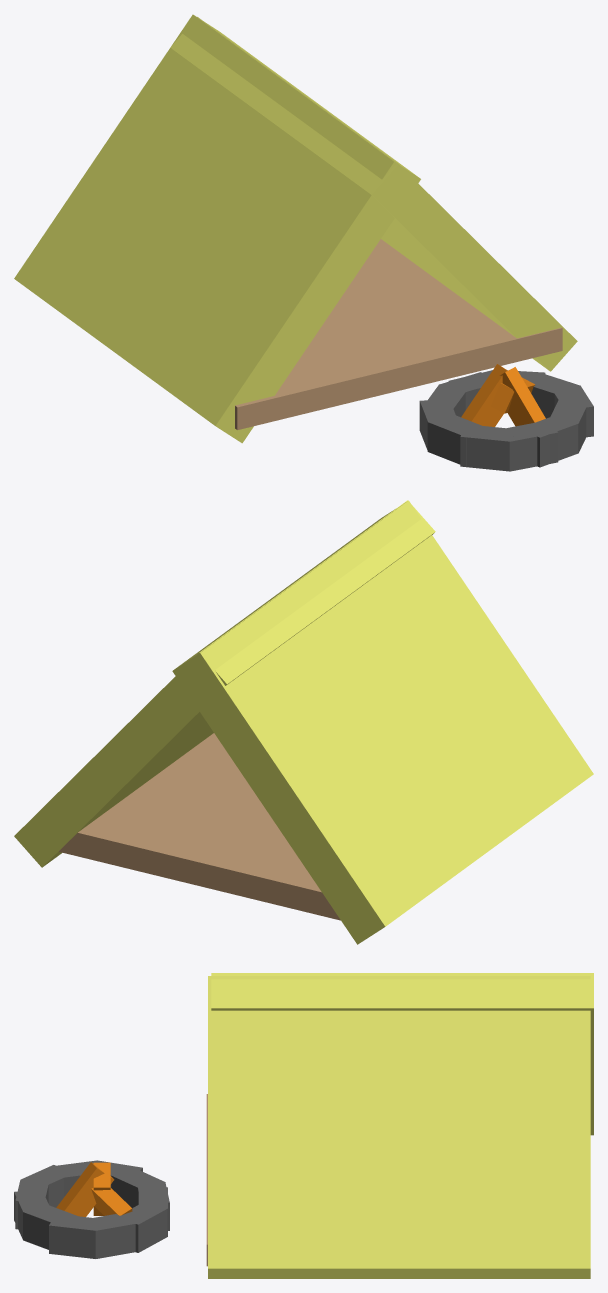
The model's file is Tent.fbx.
3 renders of one model, top to bottom at view 1: azimuth 30°, elevation 25°; view 2: azimuth 150°, elevation 25°; view 3: azimuth 270°, elevation 25°, orthographic. The views are drawn at different scales.
Parts seen in each view (by area): view 1: Tent.001, Tent.002, Tent.005, Tent.007, Tent.004, Tent.006, Brick.007, Tent.003, Brick.006, Brick.005, Brick.008, Stick (+7 smaller); view 2: Tent.001, Tent.002, Tent.005, Tent.004, Tent.007, Tent.006, Tent.003; view 3: Tent.002, Tent.001, Brick.003, Brick.002, Brick.001, Brick.004, Stick001, Brick.010, Brick.007, Stick001.001, Brick.005, Brick.011 (+3 smaller).
Boxes of the visible parts, left/top/right/bottom form: Tent.001: left=14, top=14, right=420, bottom=443; Tent.002: left=170, top=17, right=577, bottom=371; Tent.005: left=336, top=258, right=487, bottom=386; Tent.007: left=317, top=291, right=437, bottom=399; Tent.004: left=368, top=239, right=562, bottom=368; Tent.006: left=283, top=334, right=371, bottom=411; Brick.007: left=460, top=424, right=516, bottom=471; Tent.003: left=235, top=383, right=312, bottom=430; Brick.006: left=507, top=422, right=558, bottom=471; Brick.005: left=520, top=414, right=578, bottom=467; Brick.008: left=427, top=415, right=481, bottom=466; Stick: left=461, top=364, right=507, bottom=426; Tent.001: left=172, top=500, right=593, bottom=944; Tent.002: left=14, top=500, right=435, bottom=867; Tent.005: left=106, top=752, right=260, bottom=881; Tent.004: left=59, top=733, right=227, bottom=863; Tent.007: left=160, top=802, right=283, bottom=893; Tent.006: left=228, top=831, right=313, bottom=910; Tent.003: left=290, top=872, right=340, bottom=920; Tent.002: left=208, top=976, right=590, bottom=1278; Tent.001: left=211, top=973, right=593, bottom=1135; Brick.003: left=49, top=1216, right=102, bottom=1258; Brick.002: left=94, top=1214, right=142, bottom=1258; Brick.001: left=116, top=1203, right=167, bottom=1252; Brick.004: left=23, top=1205, right=79, bottom=1249; Stick001: left=56, top=1162, right=114, bottom=1216; Brick.010: left=111, top=1166, right=164, bottom=1208; Brick.007: left=21, top=1165, right=73, bottom=1207; Stick001.001: left=91, top=1188, right=132, bottom=1215; Brick.005: left=14, top=1189, right=50, bottom=1239; Brick.011: left=137, top=1182, right=169, bottom=1230.
Size of the model in its own units: 108 by 158 by 70.27.
